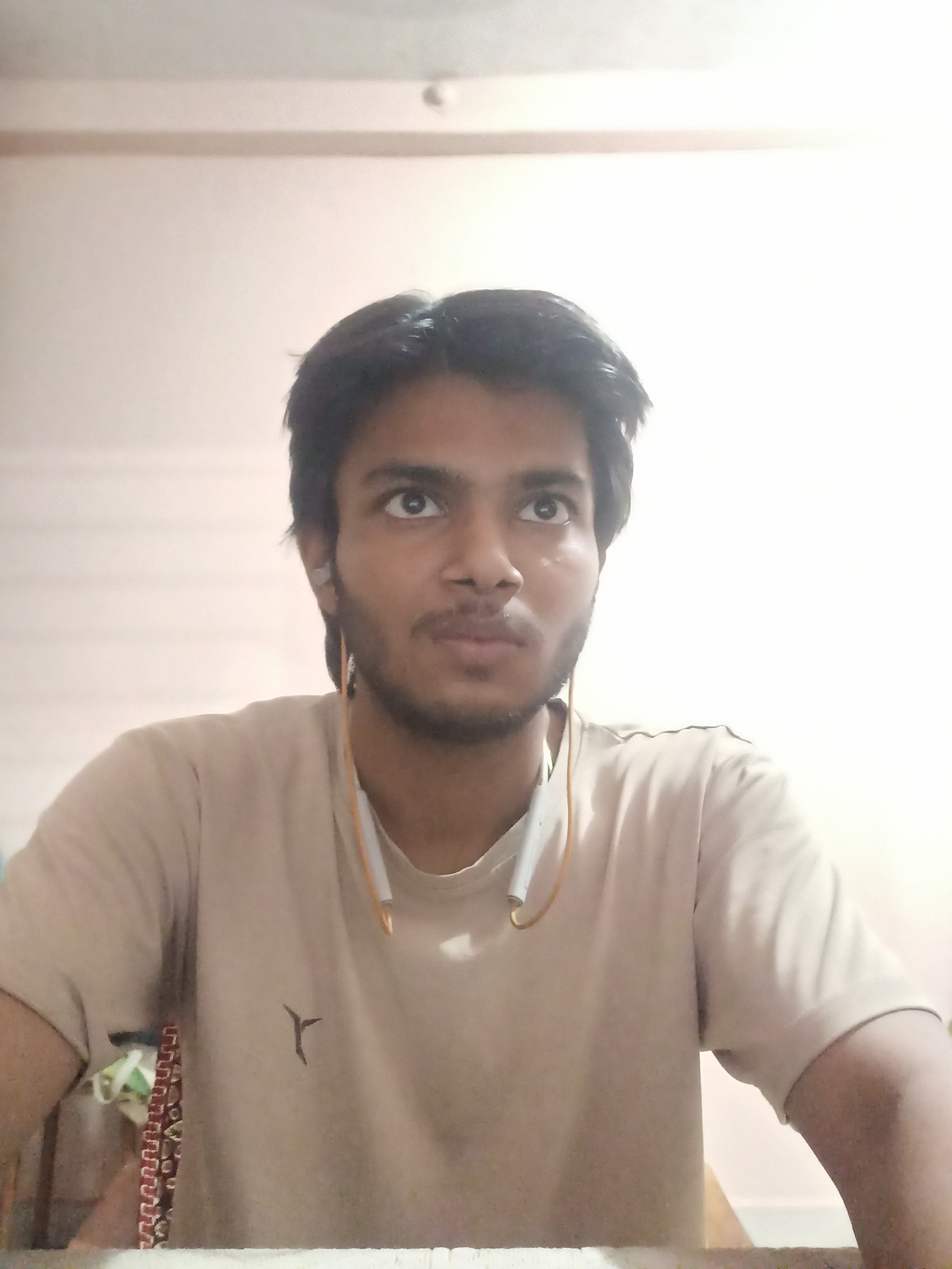Focused: (277, 244, 670, 786)
